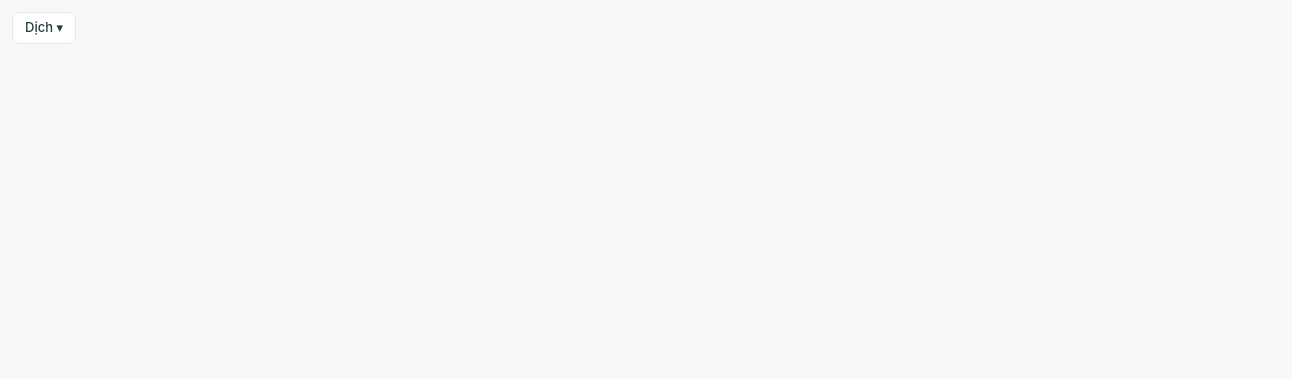
it: disables setting changes for busy jobs
Click the button "Dịch ▾" at point(44, 28), box [12,12,76,44]
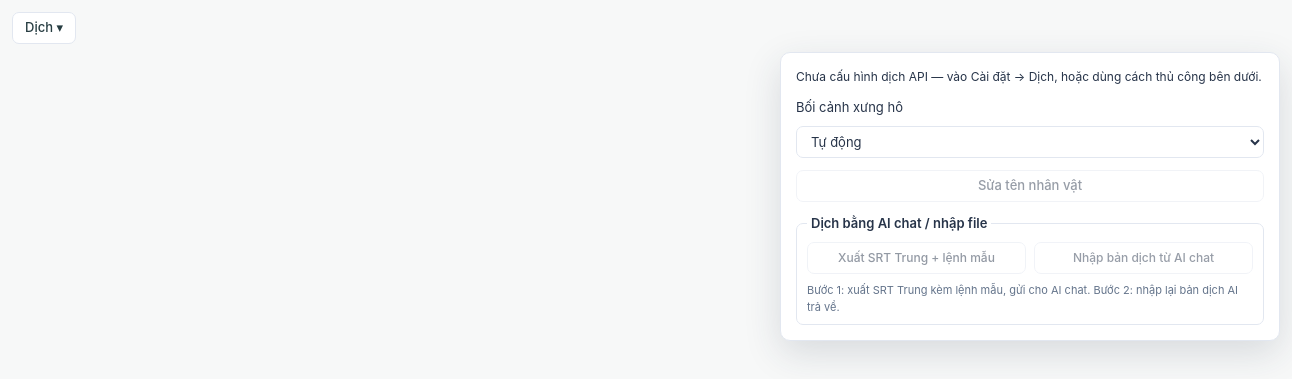
Expected: the dropdown labelled "Bối cảnh xưng hô" is disabled, [796,126,1264,158]
